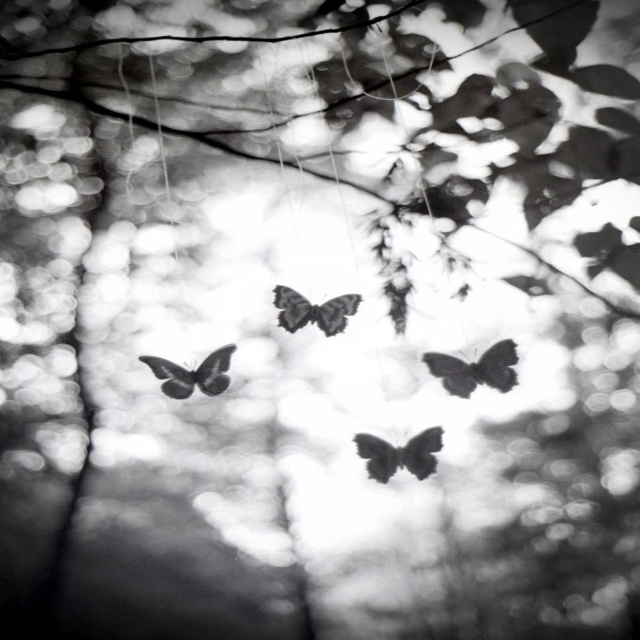Butterfly: (420, 337, 524, 397), (266, 282, 363, 344), (351, 423, 444, 484), (138, 344, 236, 400)
